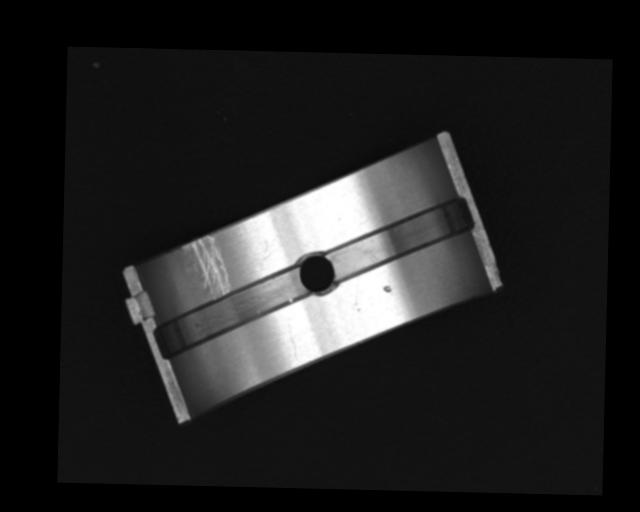bruise: (383, 284, 393, 294)
gap: (156, 265, 309, 362), (327, 195, 472, 280)
hole: (298, 253, 336, 295)
nick: (286, 325, 298, 362)
scratch: (182, 234, 231, 299)
